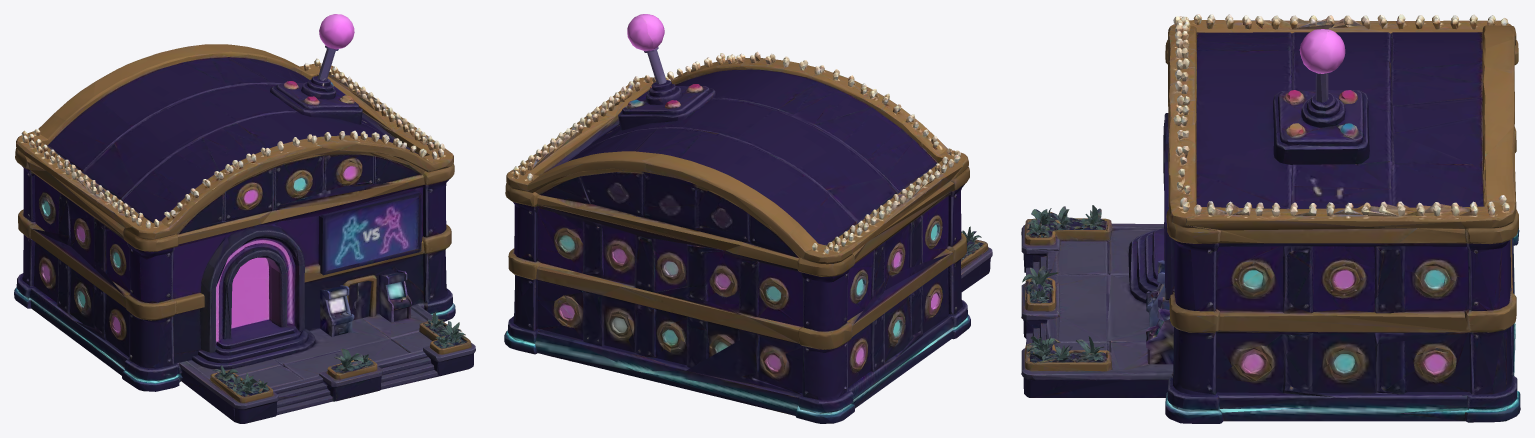
Rendered from bld-game-hub.glb.
3 views of the same model, side by side, from view 1: azimuth 30°, elevation 25°; view 2: azimuth 150°, elevation 25°; view 3: azimuth 270°, elevation 25° (orthographic). The views are drawn at different scales.
Size of the model in its own units: 1.82 by 1.48 by 1.9.
Materials: 1 (1 with a texture image).
